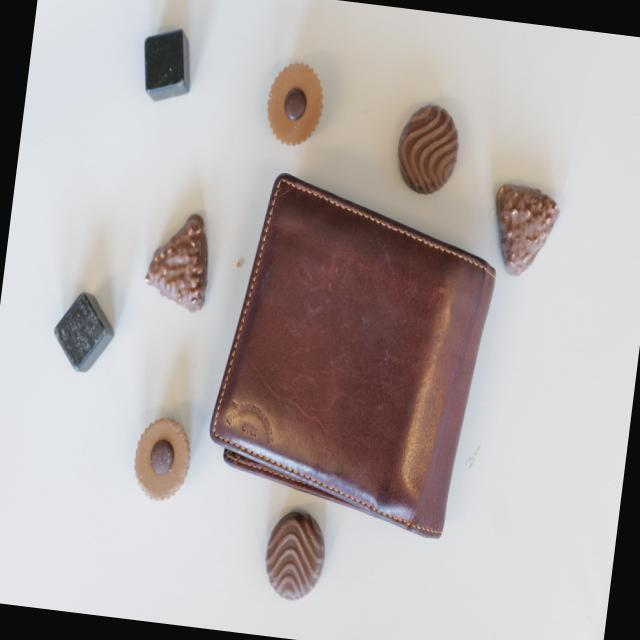Noblesse: (262, 60, 326, 148), (130, 417, 193, 504)
Noir_authentique: (393, 102, 462, 198), (260, 510, 328, 605)
Triangolo: (484, 183, 561, 279), (143, 209, 213, 313)
